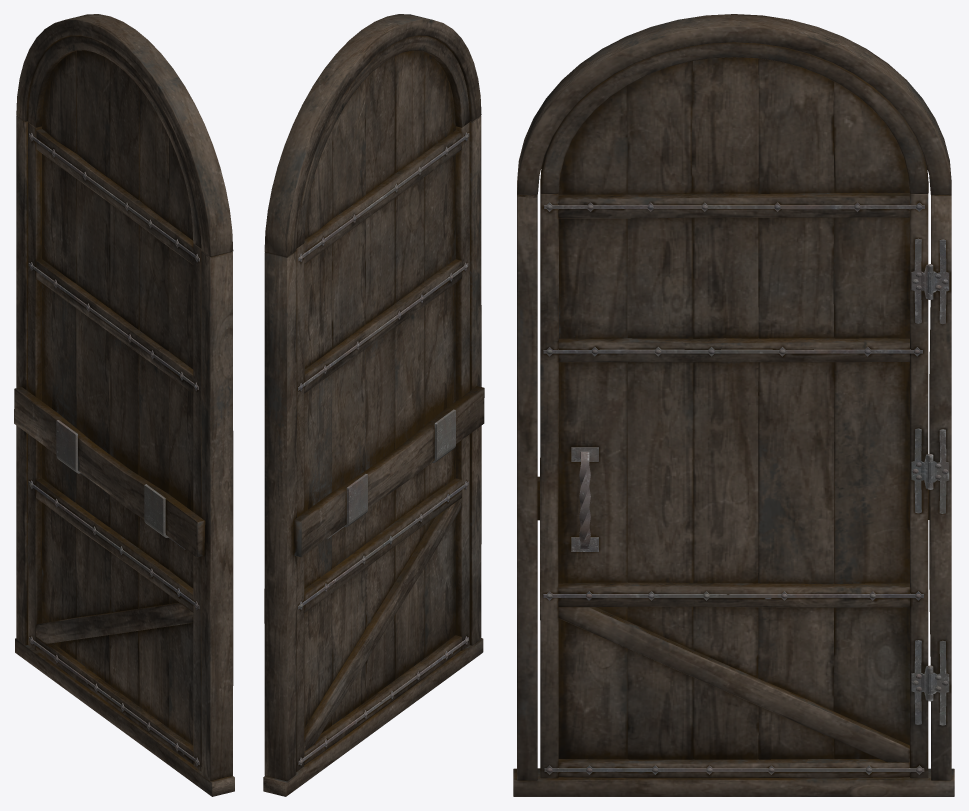
Rendered from Door.glb.
3 views of the same model, side by side, from view 1: azimuth 30°, elevation 25°; view 2: azimuth 150°, elevation 25°; view 3: azimuth 270°, elevation 25° (orthographic). The views are drawn at different scales.
Visible parts, largest first — view 1: Door_B_door_0; view 2: Door_B_door_0; view 3: Door_B_door_0.
Part boxes in pixels (left/top/right/bottom): Door_B_door_0: left=14, top=14, right=234, bottom=796; Door_B_door_0: left=263, top=14, right=484, bottom=796; Door_B_door_0: left=513, top=14, right=954, bottom=796.
Size of the model in its own units: 0.5139 by 7.61 by 3.95.
Materials: 1 (1 with a texture image).
